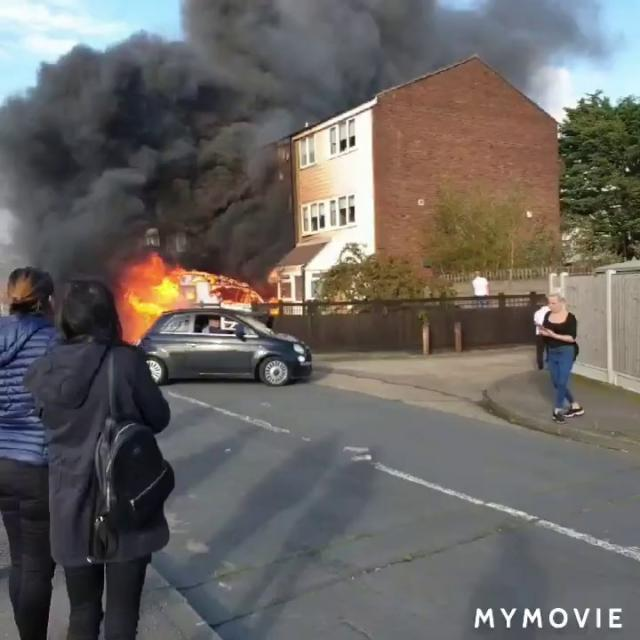Fire: (115, 256, 258, 335)
Smoke: (0, 0, 436, 251)
